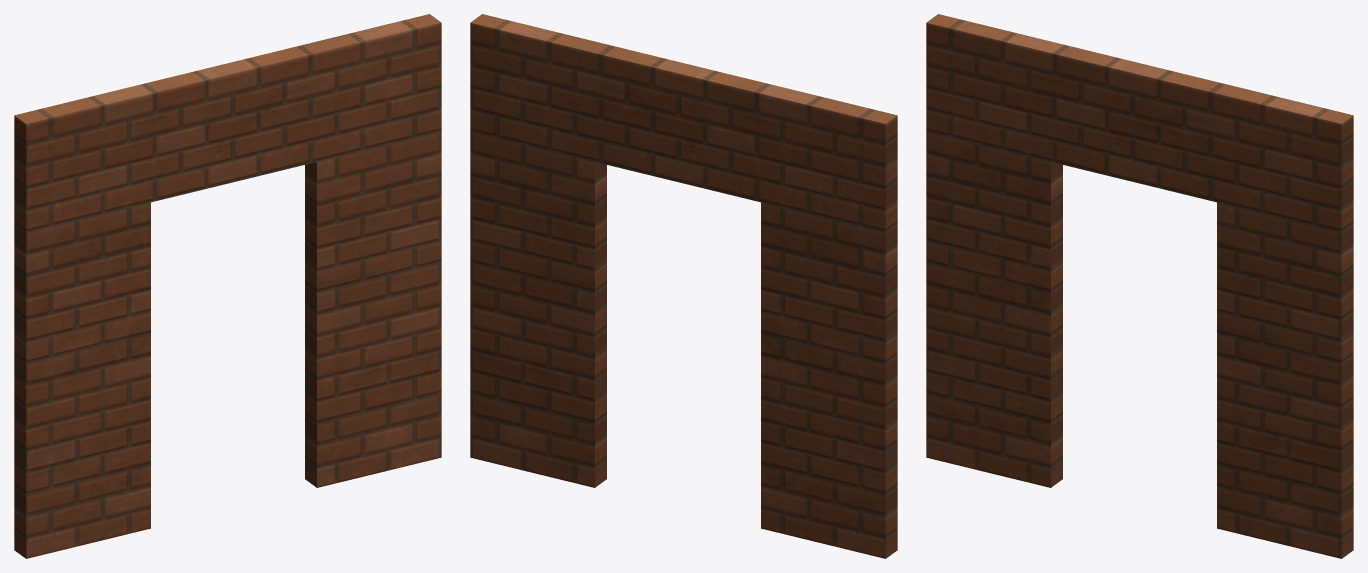
File: wall5_2.fbx
3 views of the same model, side by side, from view 1: azimuth 30°, elevation 25°; view 2: azimuth 150°, elevation 25°; view 3: azimuth 330°, elevation 25° (orthographic).
Visible parts, largest first — view 1: wall5_brick_red_b; view 2: wall5_brick_red_b; view 3: wall5_brick_red_b.
Boxes of the visible parts, box(x1,y1,x2,y2) form: wall5_brick_red_b: box(14, 14, 441, 558); wall5_brick_red_b: box(470, 14, 897, 558); wall5_brick_red_b: box(926, 14, 1353, 558).
Bounding box in the file's own units: 400 × 400 × 20.
